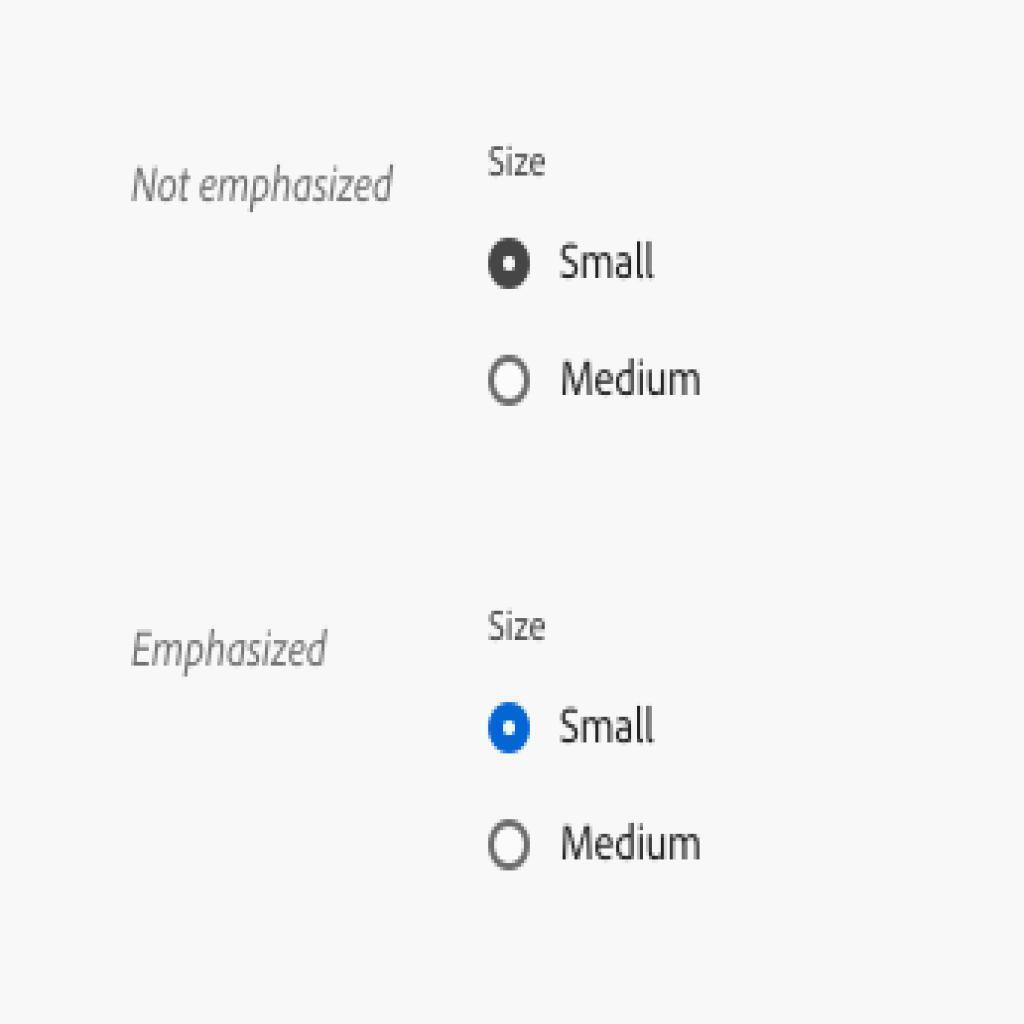radio: (482, 691, 538, 766), (484, 818, 541, 878), (483, 352, 538, 411), (484, 229, 535, 292)
